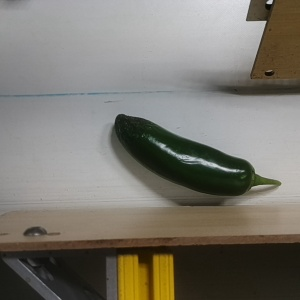Cut Point: (235, 157, 265, 198)
